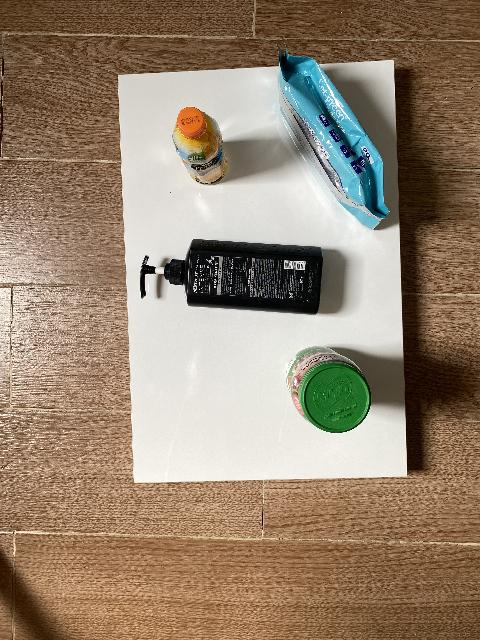Let-green_alcohol_wipes: (275, 40, 391, 230)
X-men: (140, 239, 323, 315)
milo: (286, 346, 372, 433)
teppy_orange_juice: (172, 107, 228, 185)
